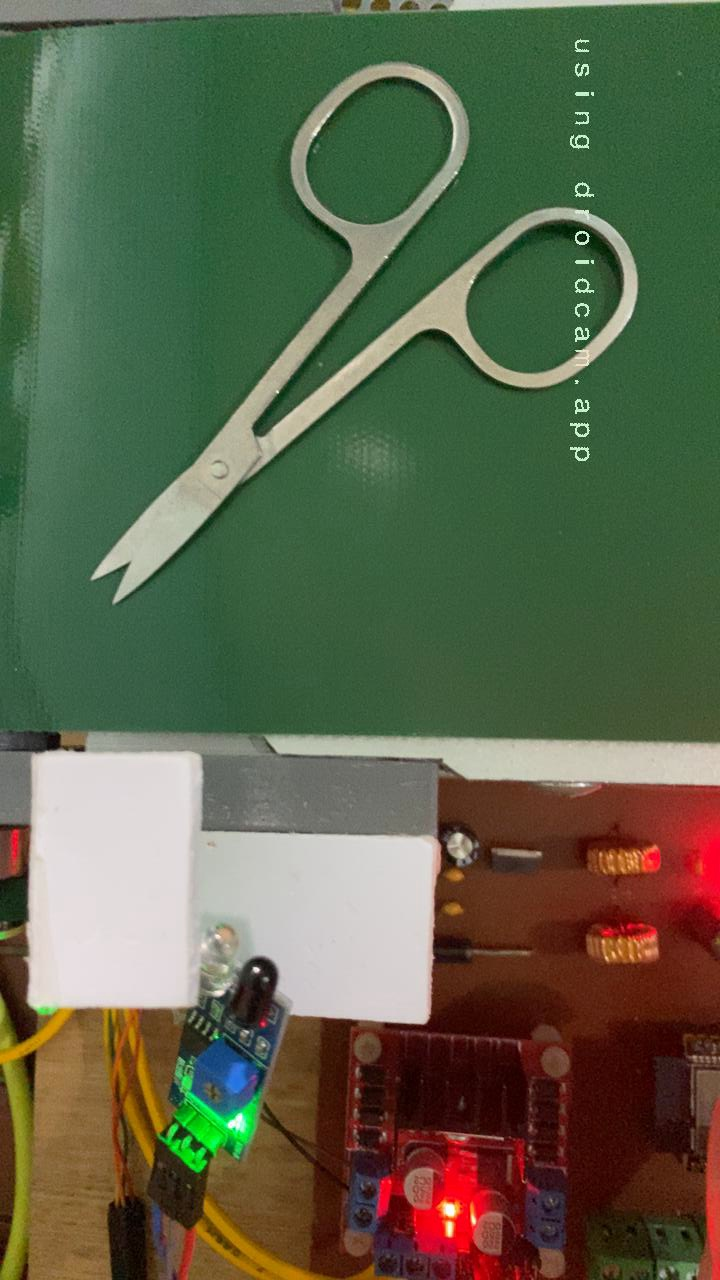scissor: (85, 57, 646, 611)
